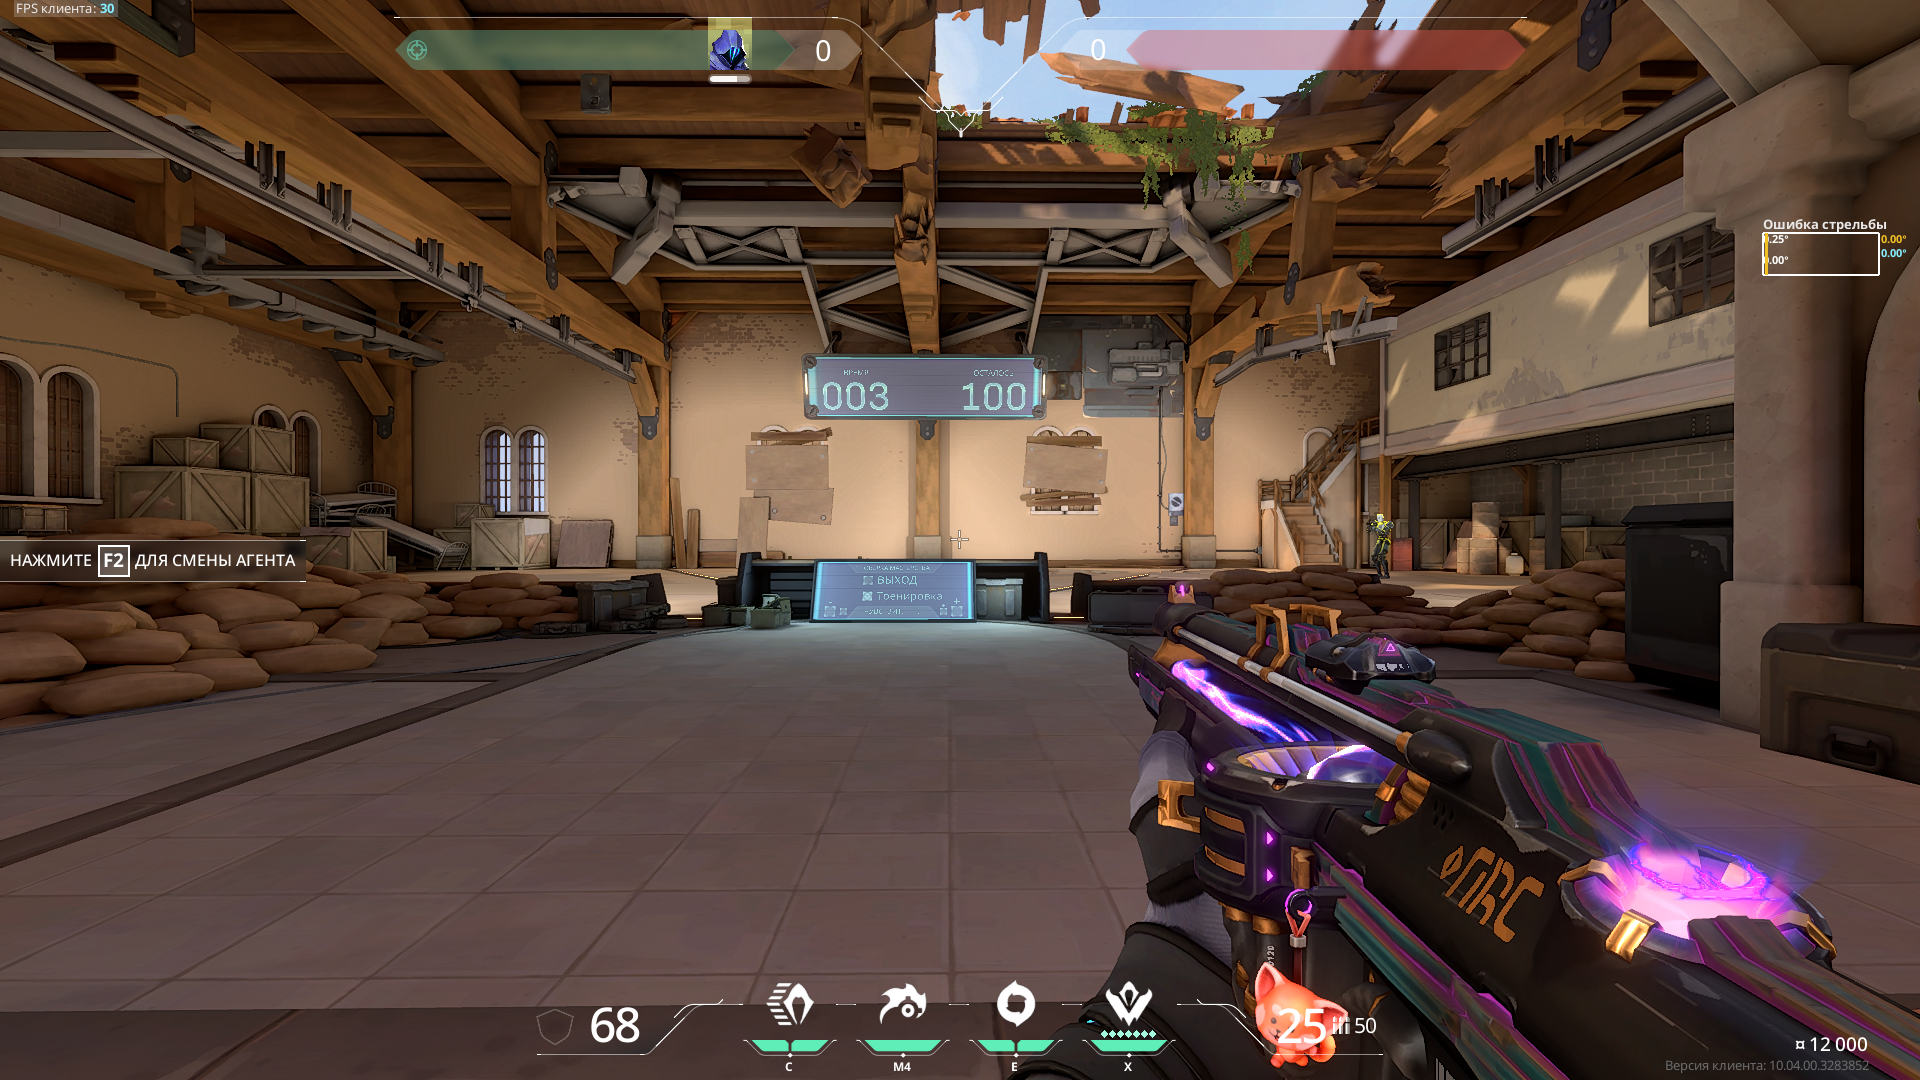head: (1377, 514, 1384, 522)
